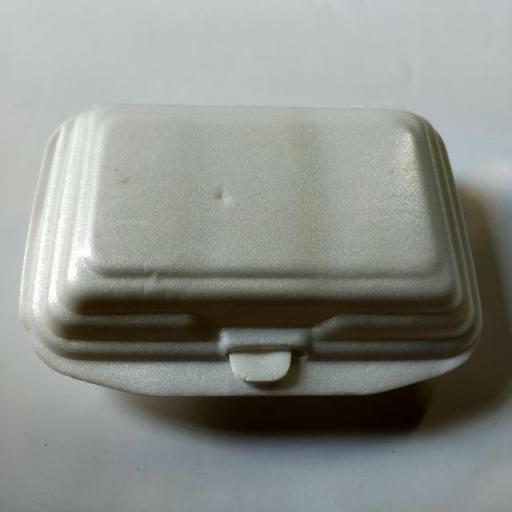styrofoam: (20, 105, 481, 394)
